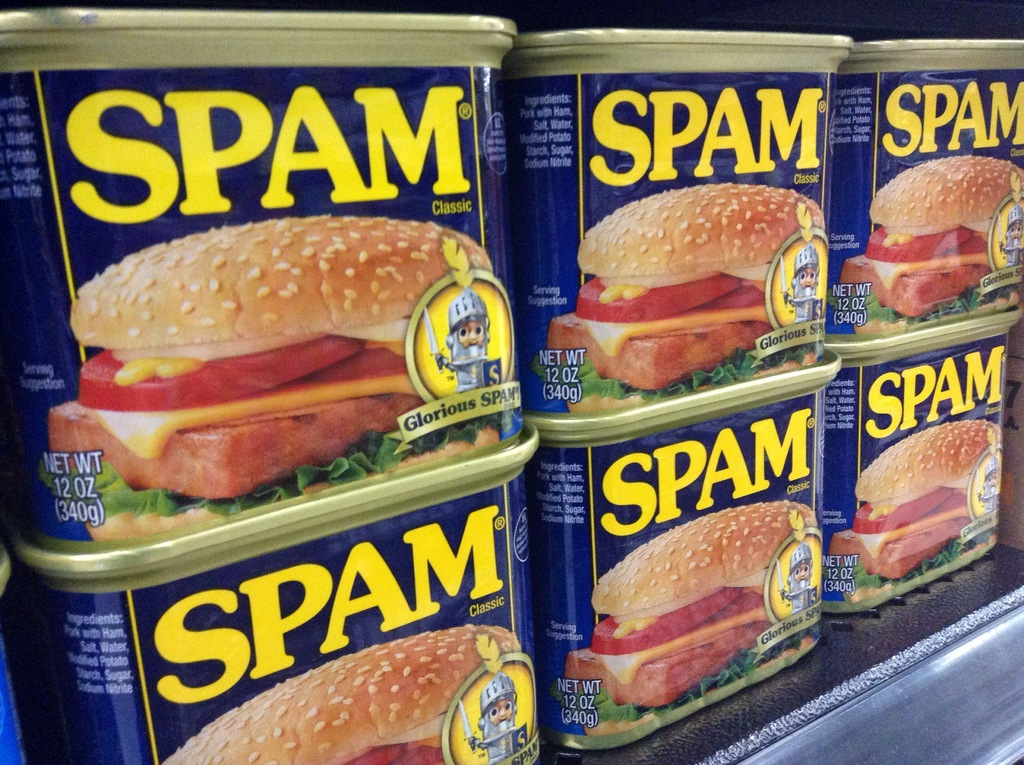Hamburger: (42, 202, 506, 510), (536, 183, 819, 391), (548, 492, 819, 700), (172, 628, 527, 764), (838, 154, 1023, 316), (826, 423, 999, 580)
